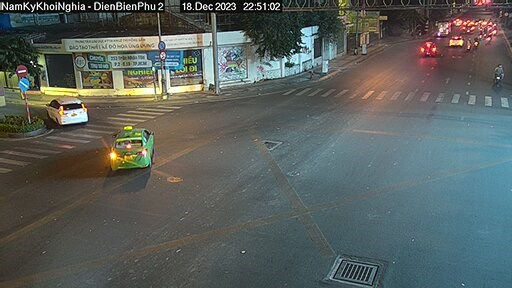car: (106, 122, 158, 174), (40, 93, 94, 132)
